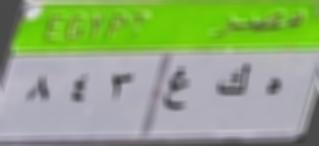3: (107, 65, 143, 105)
4: (64, 68, 97, 109)
8: (23, 71, 57, 109)
ghayn: (160, 56, 197, 117)
haa: (258, 63, 293, 105)
kaaf: (209, 59, 252, 103)
